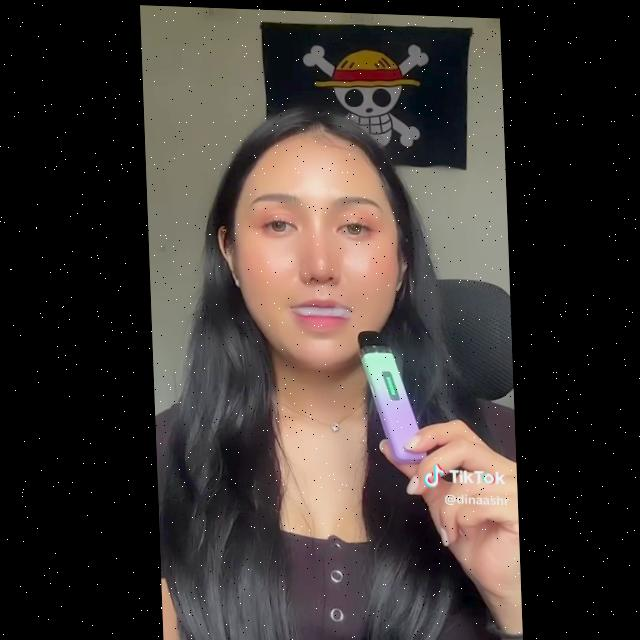vape: (353, 324, 425, 460)
